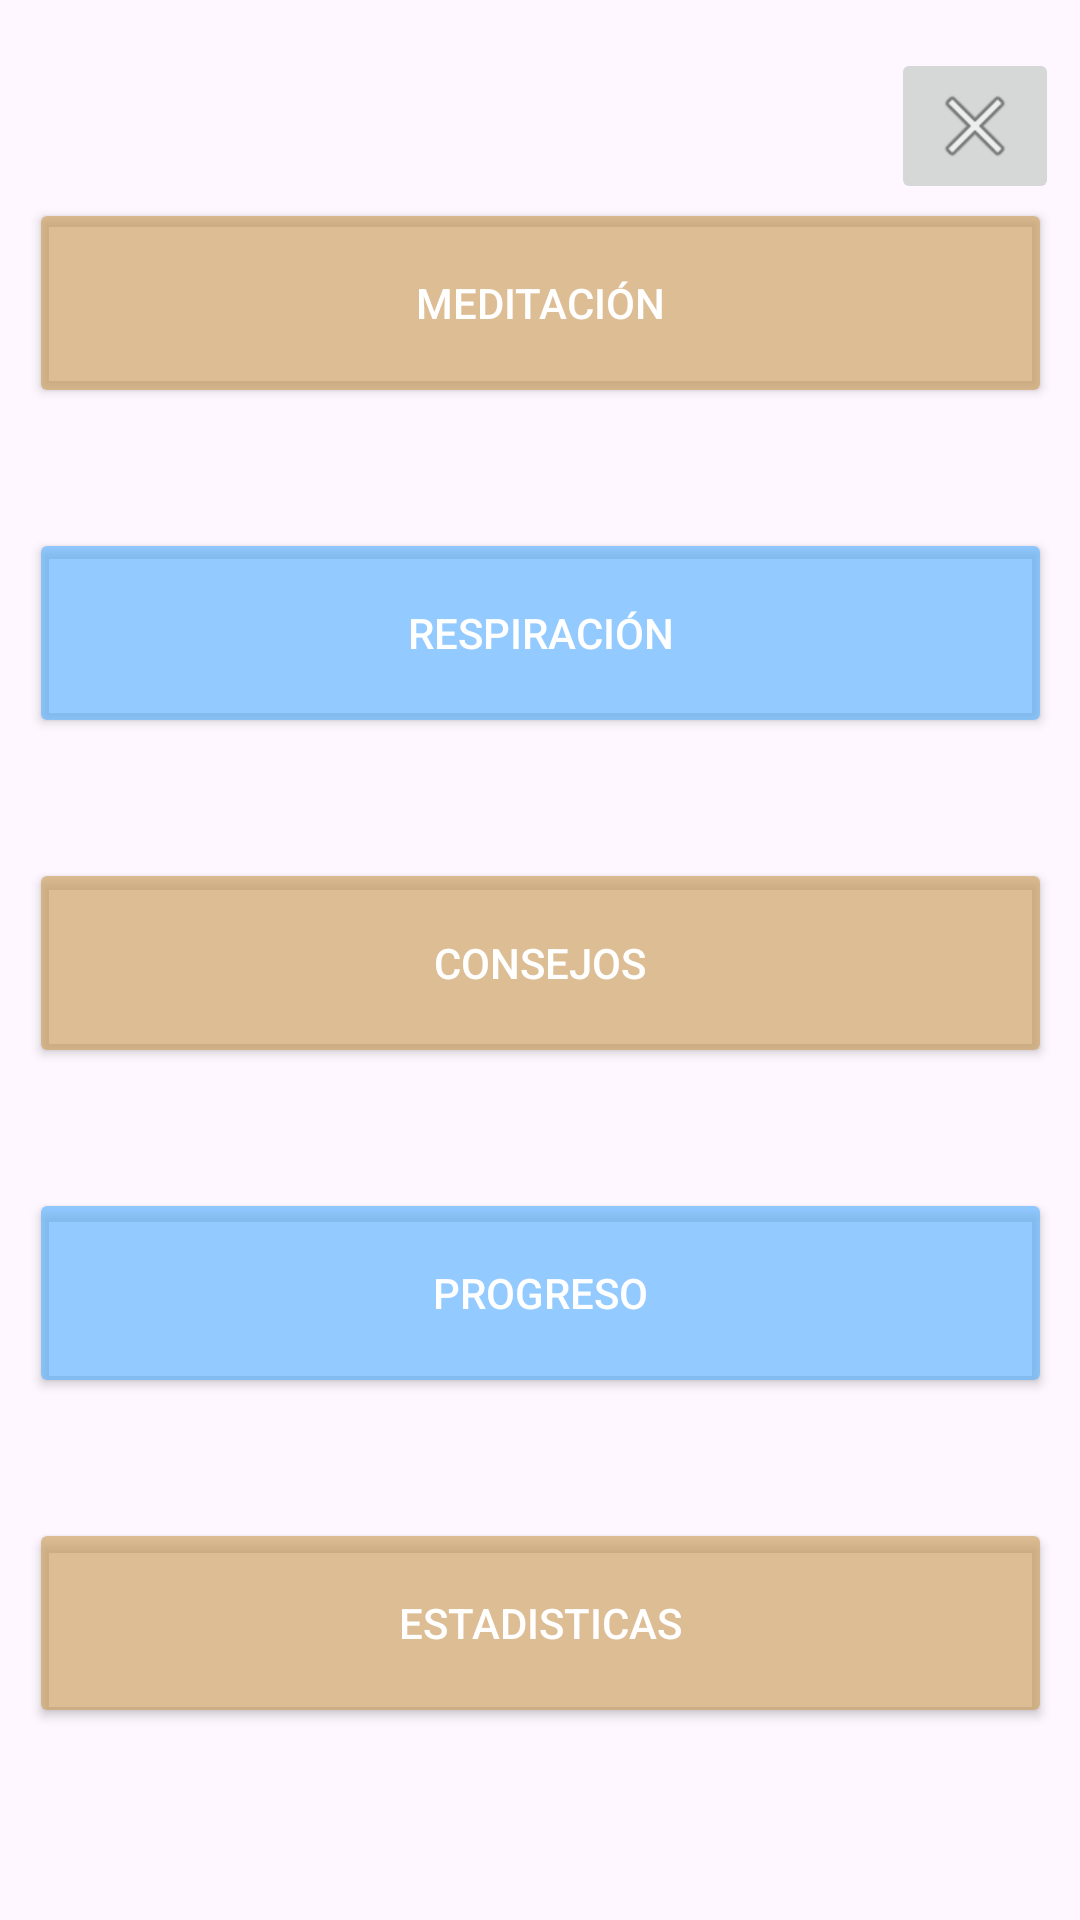

Point at icon controls on the screen. Image size 1080px×1920px, points as (x=x, y=y).
close clear cancel: (x=975, y=126)
